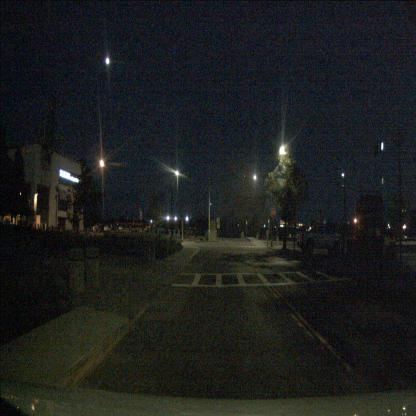vehicle-car: (296, 224, 342, 255)
